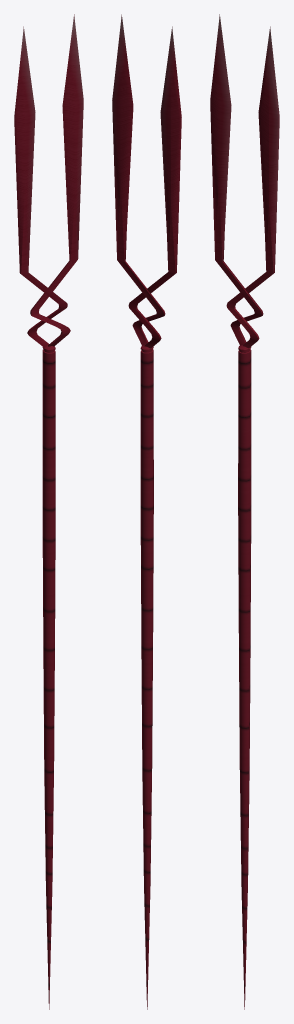
File: spear.fbx
3 views of the same model, side by side, from view 1: azimuth 30°, elevation 25°; view 2: azimuth 150°, elevation 25°; view 3: azimuth 330°, elevation 25° (orthographic).
Parts seen in each view (by area): view 1: Spear; view 2: Spear; view 3: Spear.
Part boxes in pixels (x1,y1,x2,y2): Spear: (14,14,83,1009); Spear: (112,14,181,1009); Spear: (210,14,279,1009).
Size of the model in its own units: 73.37 by 996 by 15.62.
1 material, 1 textured.
